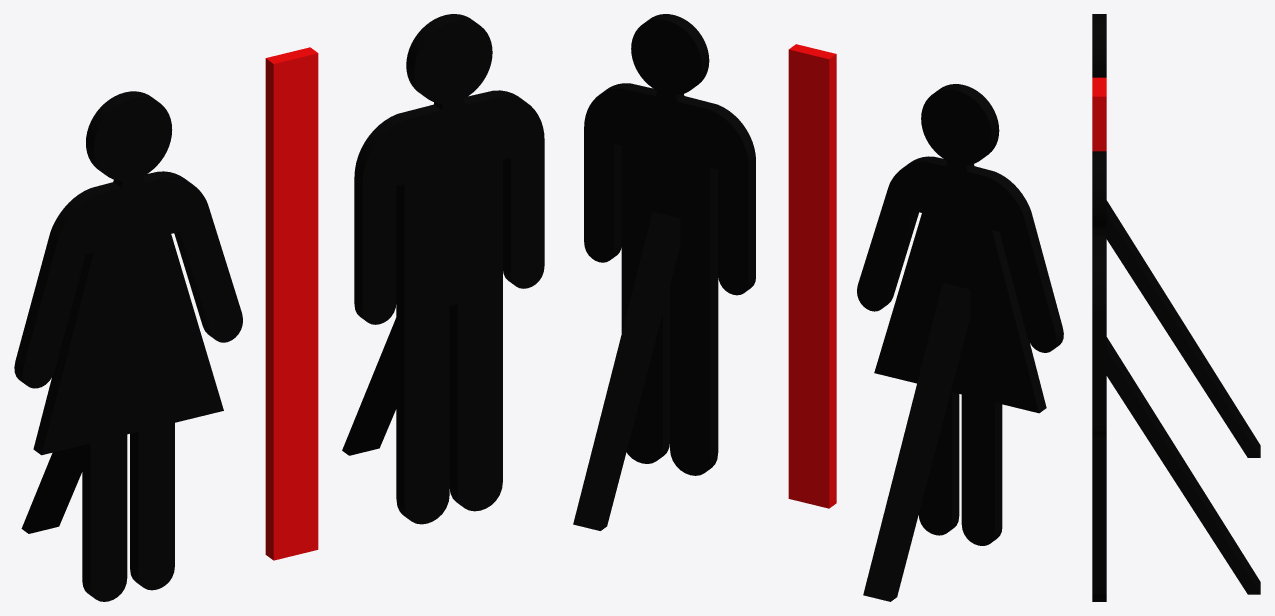
File: male_and_female_symbol.glb
The picture shows the model from 3 angles, left to right: view 1: azimuth 30°, elevation 25°; view 2: azimuth 150°, elevation 25°; view 3: azimuth 270°, elevation 25°; orthographic projection. The views are drawn at different scales.
Visible parts, largest first — view 1: Female, Male _Material_02_0, Complement_01, Complement_03, Complement_02; view 2: Female, Male _Material_02_0, Complement_01, Complement_02, Complement_03; view 3: Male _Material_02_0, Complement_03, Complement_02, Complement_01, Female.
Boxes of the visible parts, x1=… form: Female: x1=14, y1=91, x2=242, y2=601; Male _Material_02_0: x1=354, y1=14, x2=544, y2=524; Complement_01: x1=265, y1=47, x2=318, y2=560; Complement_03: x1=342, y1=318, x2=396, y2=455; Complement_02: x1=21, y1=445, x2=82, y2=533; Female: x1=857, y1=84, x2=1063, y2=545; Male _Material_02_0: x1=584, y1=14, x2=755, y2=475; Complement_01: x1=788, y1=44, x2=836, y2=508; Complement_02: x1=863, y1=283, x2=970, y2=601; Complement_03: x1=573, y1=212, x2=680, y2=530; Male _Material_02_0: x1=1092, y1=151, x2=1106, y2=601; Complement_03: x1=1106, y1=337, x2=1260, y2=594; Complement_02: x1=1106, y1=200, x2=1260, y2=457; Complement_01: x1=1092, y1=77, x2=1106, y2=151; Female: x1=1092, y1=14, x2=1106, y2=77.
Bounding box in the file's own units: 0.1923 × 0.175 × 0.0614.
